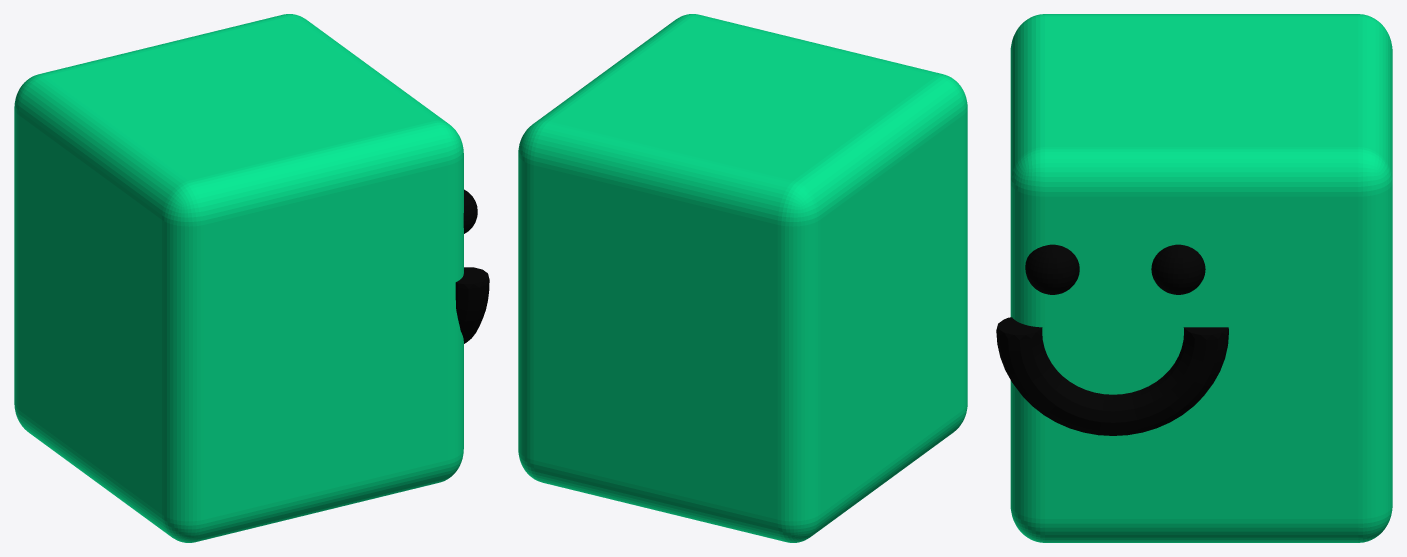
Rendered from Chracter_Green.glb.
3 views of the same model, side by side, from view 1: azimuth 30°, elevation 25°; view 2: azimuth 150°, elevation 25°; view 3: azimuth 270°, elevation 25° (orthographic). The views are drawn at different scales.
Visible parts, largest first — view 1: Chracter_Green; view 2: Chracter_Green; view 3: Chracter_Green.
Part boxes in pixels (<box>): Chracter_Green: <box>14,14,489,542</box>; Chracter_Green: <box>518,14,967,542</box>; Chracter_Green: <box>996,14,1392,542</box>.
Size of the model in its own units: 1.84 by 2 by 1.83.
